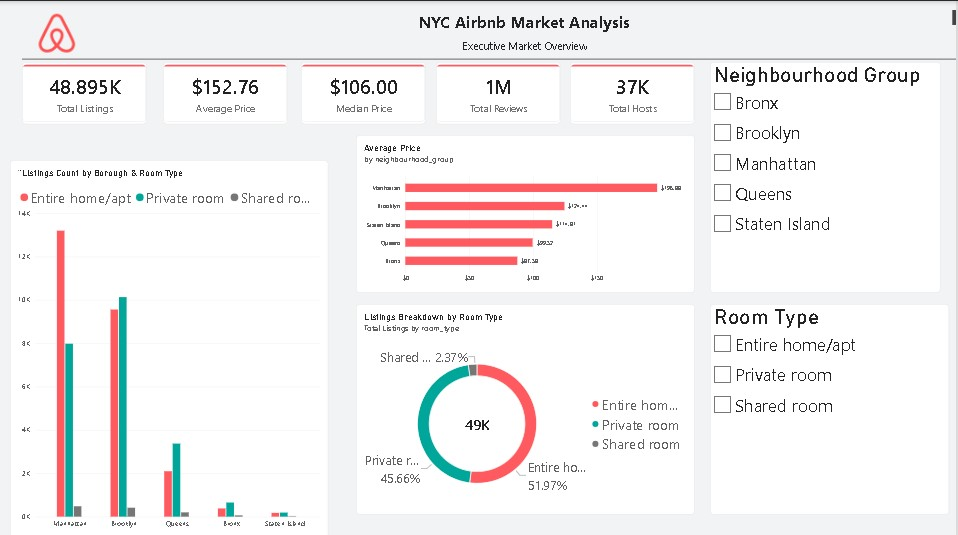

The dashboard page shown, as its layout file describes it:
{"tool":"powerbi","page":{"name":"Market Overview","canvas":[1920,1080],"ordinal":0},"visuals":[{"type":"image","box":[45,17.5,140,92.5],"z":0,"group":"g1"},{"type":"cardVisual","title":"grege","fields":{"Data":["_Measures.Total Listings"]},"box":[43.9,122,250,125],"z":0},{"type":"textbox","box":[185,17.5,1735,50],"z":1000,"group":"g1"},{"type":"cardVisual","title":"grege","fields":{"Data":["_Measures.Average Price"]},"box":[326.8,122,250,125],"z":1000},{"type":"textbox","box":[185,67.5,1735,55],"z":2000,"group":"g1"},{"type":"cardVisual","title":"grege","fields":{"Data":["_Measures.Median Price"]},"box":[604.9,122,250,125],"z":2000},{"type":"cardVisual","title":"grege","fields":{"Data":["_Measures.Total Reviews"]},"box":[875.6,122,250,125],"z":3000},{"type":"cardVisual","title":"grege","fields":{"Data":["_Measures.Total Hosts"]},"box":[1143.9,122,250,125],"z":4000},{"type":"clusteredColumnChart","title":"\"Listings Count by Borough & Room Type","fields":{"Category":["cleaned_df.neighbourhood_group"],"Series":["cleaned_df.room_type"],"Y":["_Measures.Total Listings"]},"box":[20,318.3,639,761],"z":5000},{"type":"clusteredBarChart","fields":{"Category":["cleaned_df.neighbourhood_group"],"Y":["_Measures.Average Price"]},"box":[714.6,268.3,680.5,317.1],"z":6000},{"type":"donutChart","title":"Listings Breakdown by Room Type","fields":{"Category":["cleaned_df.room_type"],"Y":["_Measures.Total Listings"]},"box":[715,607.5,680,422.5],"z":7000},{"type":"slicer","fields":{"Values":["cleaned_df.neighbourhood_group"]},"box":[1424.4,122,463.4,463.4],"z":8000},{"type":"slicer","fields":{"Values":["cleaned_df.room_type"]},"box":[1425,607.5,480,422.5],"z":9000},{"type":"group","id":"g1","title":"Header Banner 2","box":[45,17.5,1875,105],"z":9006,"group":"g2"},{"type":"shape","box":[45,110,1875,12.5],"z":10000},{"type":"group","id":"g2","title":"Header Banner","box":[45,17.5,1875,105],"z":11000}]}

Visuals, with their boxes in screenshot pixels (x1, y1, x2, y2), scaled from the page's 1920x1080 canvas onto the 958x535 screenshot:
image: rect(22, 9, 92, 54)
"grege" cardVisual: rect(22, 60, 147, 122)
textbox: rect(92, 9, 957, 33)
"grege" cardVisual: rect(163, 60, 288, 122)
textbox: rect(92, 33, 957, 61)
"grege" cardVisual: rect(302, 60, 427, 122)
"grege" cardVisual: rect(437, 60, 562, 122)
"grege" cardVisual: rect(571, 60, 695, 122)
""Listings Count by Borough & Room Type" clusteredColumnChart: rect(10, 158, 329, 534)
clusteredBarChart - cleaned_df.neighbourhood_group x _Measures.Average Price: rect(357, 133, 696, 290)
"Listings Breakdown by Room Type" donutChart: rect(357, 301, 696, 510)
slicer - cleaned_df.neighbourhood_group: rect(711, 60, 942, 290)
slicer - cleaned_df.room_type: rect(711, 301, 951, 510)
"Header Banner 2" group: rect(22, 9, 957, 61)
shape: rect(22, 54, 957, 61)
"Header Banner" group: rect(22, 9, 957, 61)
